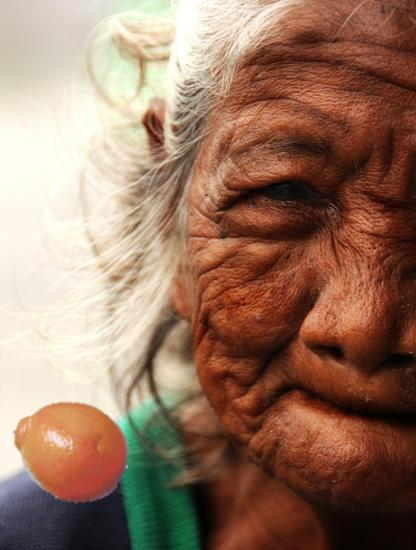Tangelo: (10, 391, 130, 511)
